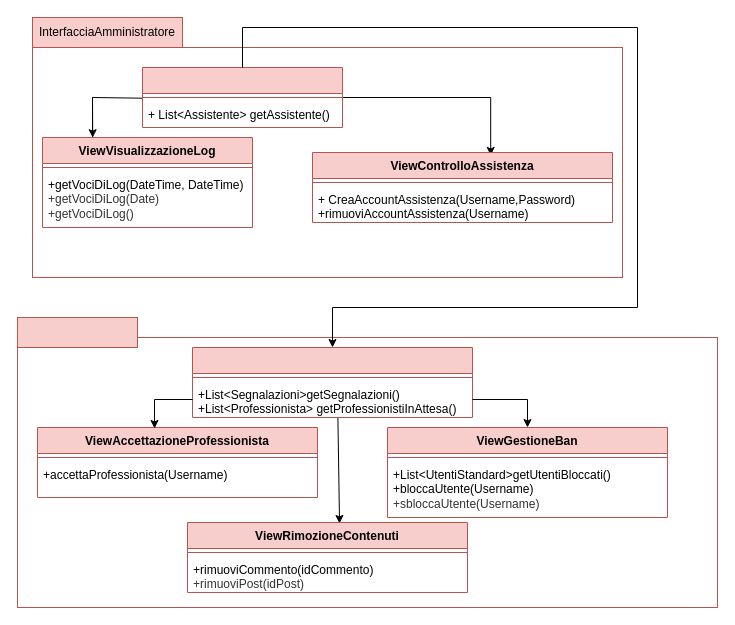
This 735x625 diagram has some shape labels left out. Each missing label, with the box of its shape:
HomeGestioneAmministratore: (142, 66, 342, 128)
HomeGestioneAssistenza: (192, 346, 472, 418)
InterfacciaAssistenza: (16, 316, 138, 348)
